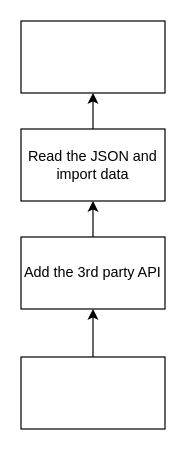
Some shapes in this 186 by 450 pixel diagram are drawn without their labels. Here are the shapes that lost their labels. From the top down, the box of each, then its label:
(20, 20, 165, 93): Add color for each state and render on the screen
(20, 356, 165, 429): Initialize the HTML file
